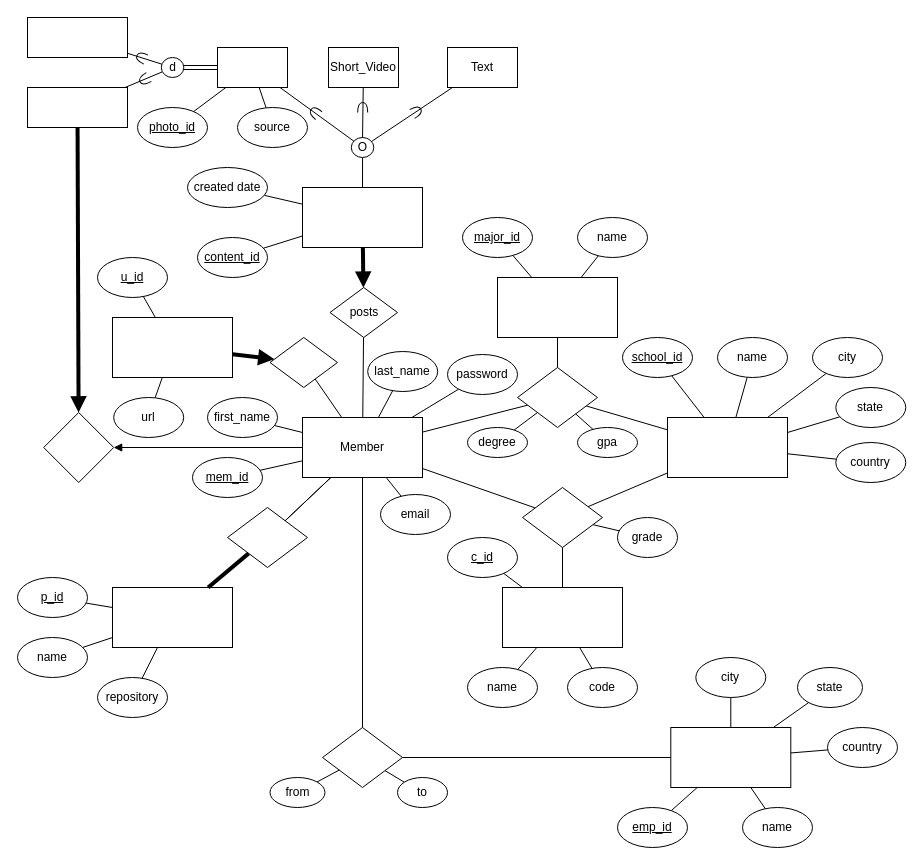
This 924x865 diagram has some shape labels left out. Here are the shapes that lost their labels. From the top down, the centre of each, then its label:
the point at 77,37: Regular_Photo
the point at 252,67: Photo
the point at 77,107: Account_Photo
the point at 362,217: Content
the point at 557,307: major
the point at 172,347: Personal_URL
the point at 303,362: has
the point at 557,397: graduates
the point at 78,447: belongs
the point at 727,447: School
the point at 267,537: owns
the point at 562,517: takes
the point at 172,617: Project
the point at 562,617: Course
the point at 362,757: works
the point at 730,757: Employer
